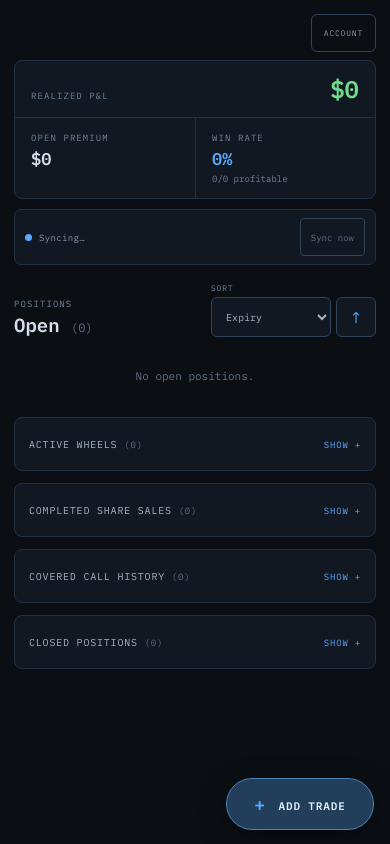
Test: opens the mobile add-trade sheet with labeled fields
Click the button named "Open add trade form": (300, 804) top-left (226, 778), bottom-right (374, 830)
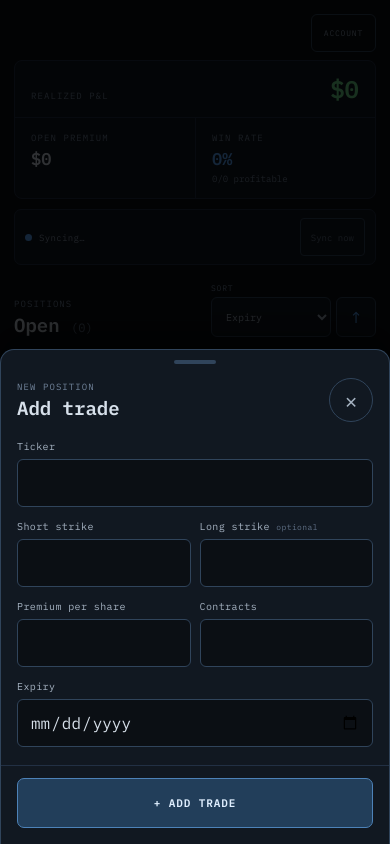
expect the dialog "Add trade" is shown: met
